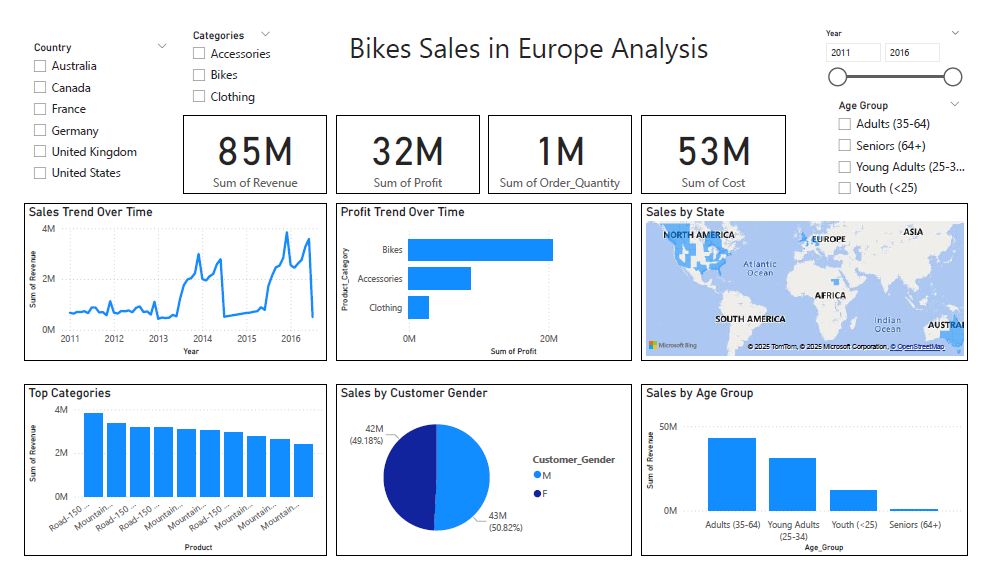

The dashboard page shown, as its layout file describes it:
{"tool":"powerbi","page":{"name":"Page 1","canvas":[1280,720],"ordinal":0},"visuals":[{"type":"card","fields":{"Values":["Sum(Sales.Revenue)"]},"box":[215.4,122.1,194.9,107],"z":0},{"type":"lineChart","title":"Sales Trend Over Time","fields":{"Y":["Sum(Sales.Revenue)"],"Category":["Sales.Date.Variation.Date Hierarchy.Year","Sales.Date.Variation.Date Hierarchy.Month"]},"box":[0,241.5,410.3,212.7],"z":1},{"type":"barChart","title":"Profit Trend Over Time","fields":{"Category":["Sales.Product_Category"],"Y":["Sum(Sales.Profit)"]},"box":[422.6,241.5,400.7,212.7],"z":3},{"type":"pieChart","title":"Sales by Customer Gender","fields":{"Category":["Sales.Customer_Gender"],"Y":["Sum(Sales.Revenue)"]},"box":[422.6,487.1,400.7,233.3],"z":4},{"type":"filledMap","title":"Sales by State","fields":{"Category":["Sales.State"]},"box":[837.1,241.5,443.2,212.7],"z":5},{"type":"card","fields":{"Values":["Sum(Sales.Profit)"]},"box":[422.6,122.1,194.9,107],"z":6},{"type":"card","fields":{"Values":["Sum(Sales.Order_Quantity)"]},"box":[628.5,122.1,194.9,107],"z":7},{"type":"card","fields":{"Values":["Sum(Sales.Cost)"]},"box":[837.1,122.1,194.9,107],"z":8},{"type":"columnChart","title":"Top Categories","fields":{"Y":["Sum(Sales.Revenue)"],"Category":["Sales.Product"]},"box":[0,487.1,410.3,233.3],"z":9},{"type":"columnChart","title":"Sales by Age Group","fields":{"Y":["Sum(Sales.Revenue)"],"Category":["Sales.Age_Group"]},"box":[837,487,443,233],"z":10},{"type":"slicer","fields":{"Values":["Sales.Product_Category"]},"box":[215.4,0,130.4,120.8],"z":11},{"type":"slicer","fields":{"Values":["Sales.Age_Group"]},"box":[1090.9,96.1,189.4,145.5],"z":12},{"type":"slicer","fields":{"Values":["Sales.Year"]},"box":[1074.4,0,205.8,96.1],"z":13},{"type":"slicer","fields":{"Values":["Sales.Country"]},"box":[0,16.5,205.8,212.7],"z":14},{"type":"textbox","box":[345.8,0,676.5,76.8],"z":15}]}

Visuals, with their boxes in screenshot pixels (x1, y1, x2, y2), scaled from the page's 1280x720 canvas onto the 1000x577 screenshot:
card - Sum(Sales.Revenue): l=168, t=98, r=321, b=184
"Sales Trend Over Time" lineChart: l=0, t=194, r=321, b=364
"Profit Trend Over Time" barChart: l=330, t=194, r=643, b=364
"Sales by Customer Gender" pieChart: l=330, t=390, r=643, b=576
"Sales by State" filledMap: l=654, t=194, r=999, b=364
card - Sum(Sales.Profit): l=330, t=98, r=482, b=184
card - Sum(Sales.Order_Quantity): l=491, t=98, r=643, b=184
card - Sum(Sales.Cost): l=654, t=98, r=806, b=184
"Top Categories" columnChart: l=0, t=390, r=321, b=576
"Sales by Age Group" columnChart: l=654, t=390, r=999, b=576
slicer - Sales.Product_Category: l=168, t=0, r=270, b=97
slicer - Sales.Age_Group: l=852, t=77, r=999, b=194
slicer - Sales.Year: l=839, t=0, r=999, b=77
slicer - Sales.Country: l=0, t=13, r=161, b=184
textbox: l=270, t=0, r=799, b=62
